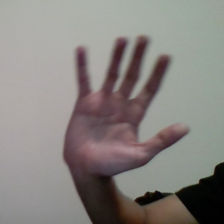left: (56, 26, 201, 177)
